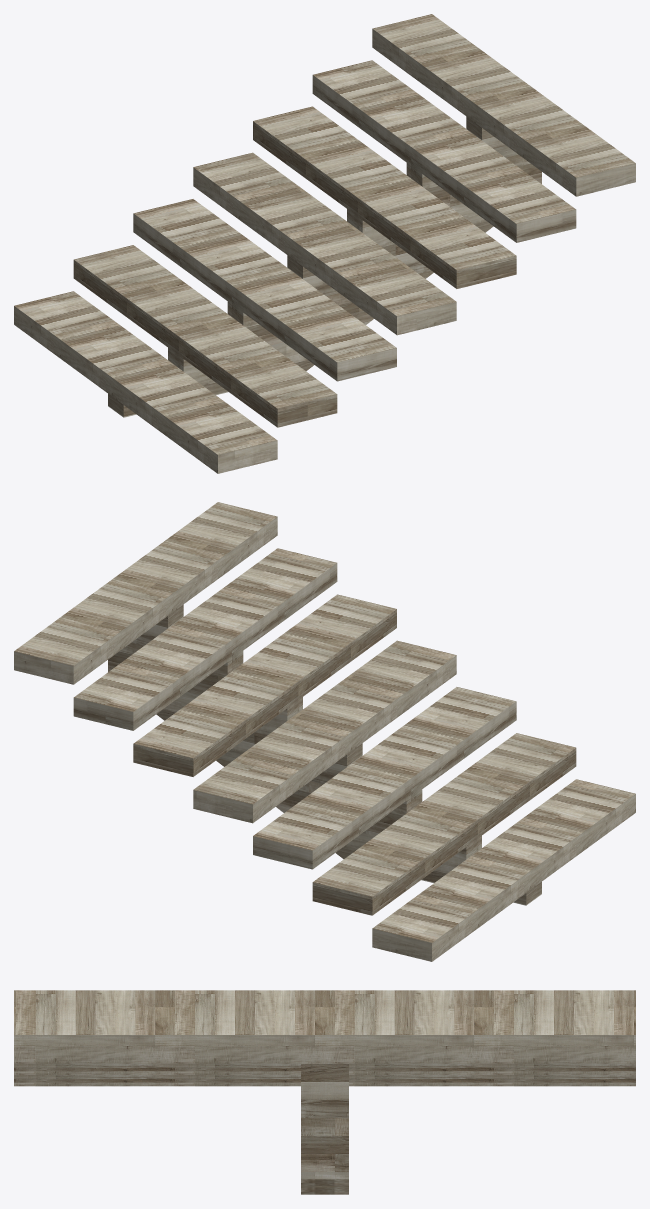
File: Soupnewstairs003.glb
The picture shows the model from 3 angles, top to bottom: view 1: azimuth 30°, elevation 25°; view 2: azimuth 150°, elevation 25°; view 3: azimuth 270°, elevation 25°; orthographic projection. The views are drawn at different scales.
Visible parts, largest first — view 1: Soupnewstairs003_high_1; view 2: Soupnewstairs003_high_1; view 3: Soupnewstairs003_high_1.
Boxes of the visible parts, x1=… form: Soupnewstairs003_high_1: x1=14, y1=14, x2=635, y2=473; Soupnewstairs003_high_1: x1=14, y1=502, x2=635, y2=961; Soupnewstairs003_high_1: x1=14, y1=990, x2=635, y2=1194.
Size of the model in its own units: 2.6 by 1.32 by 2.2.
Materials: 1 (1 with a texture image).
